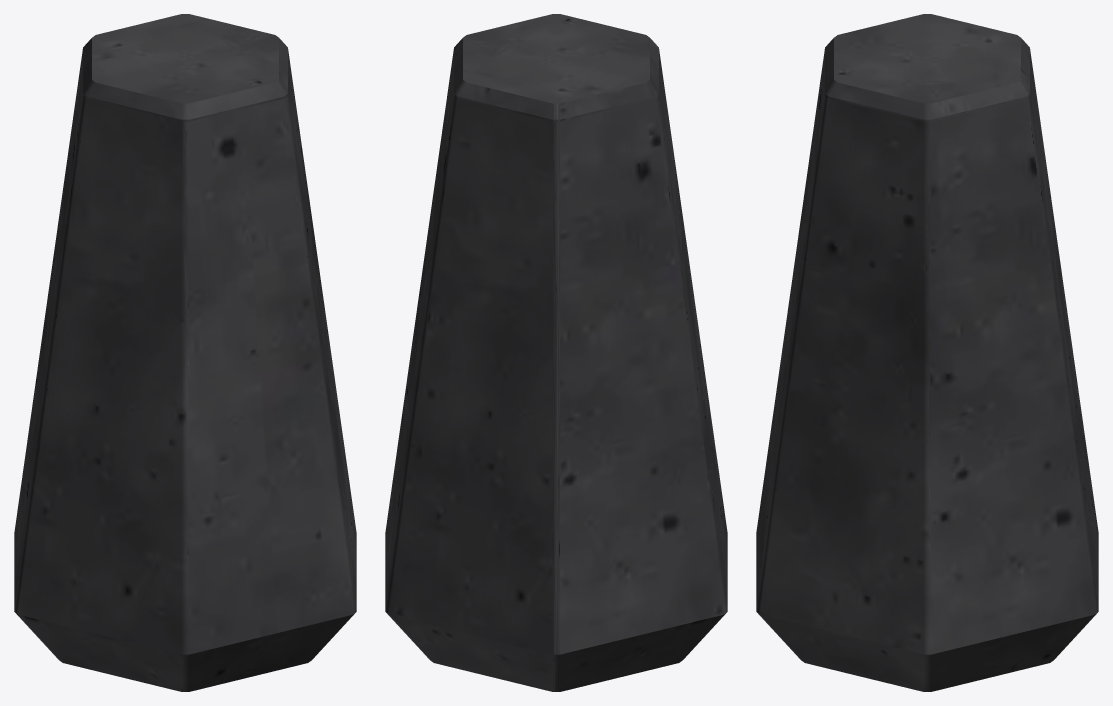
File: hexalith_black_pawn.glb
3 renders of one model, left to right at view 1: azimuth 30°, elevation 25°; view 2: azimuth 150°, elevation 25°; view 3: azimuth 270°, elevation 25°, orthographic.
Parts seen in each view (by area): view 1: HEXALITH_black_pawn; view 2: HEXALITH_black_pawn; view 3: HEXALITH_black_pawn.
Part boxes in pixels (x1=…): HEXALITH_black_pawn: x1=14, y1=14, x2=356, y2=691; HEXALITH_black_pawn: x1=385, y1=14, x2=727, y2=691; HEXALITH_black_pawn: x1=756, y1=14, x2=1098, y2=691.
Bounding box in the file's own units: 0.0306 × 0.0496 × 0.0268.
1 material, 1 textured.
